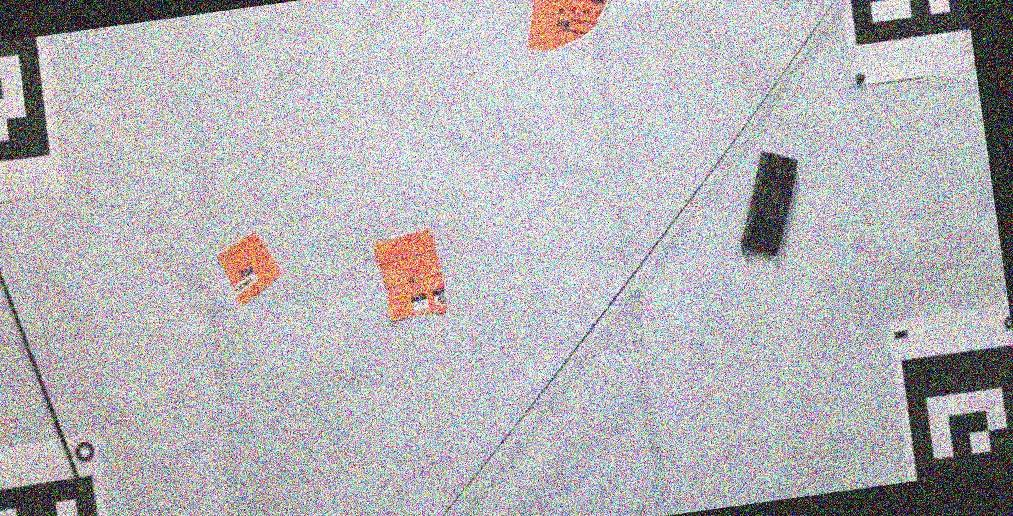obstacle: (372, 229, 448, 325), (741, 150, 798, 255), (216, 230, 280, 303), (526, 0, 606, 54)
